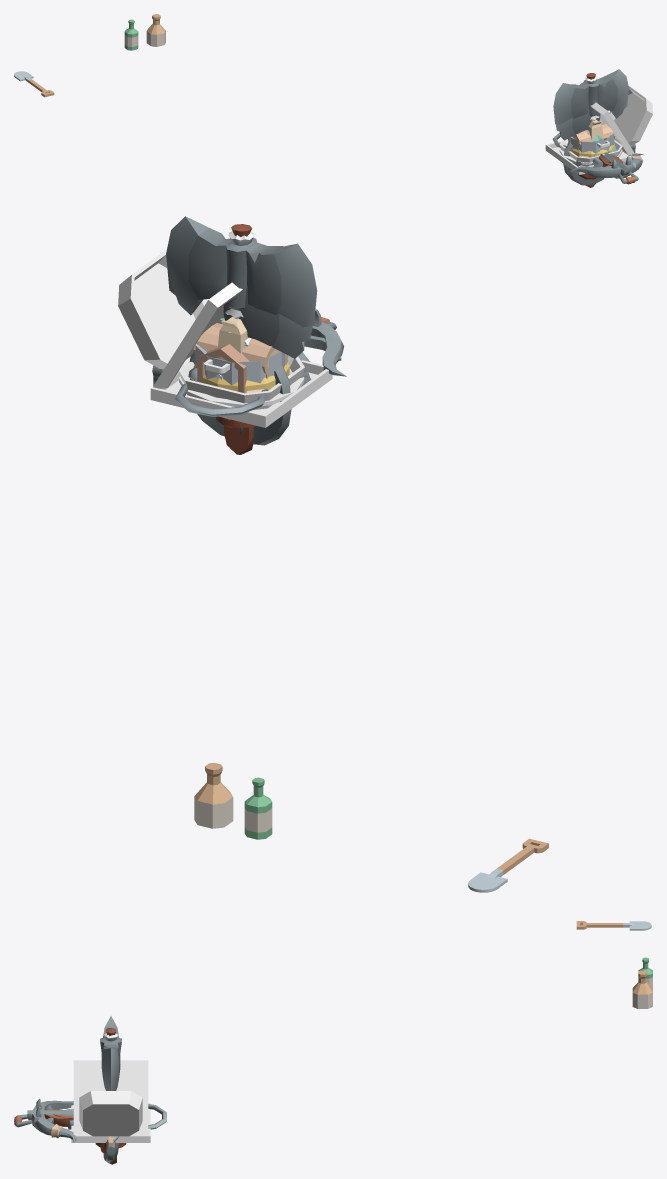
The model's file is items.glb.
3 views of the same model, one above another, from view 1: azimuth 30°, elevation 25°; view 2: azimuth 150°, elevation 25°; view 3: azimuth 270°, elevation 25° (orthographic). The views are drawn at different scales.
Parts seen in each view (by area): view 1: axe_2handed, lid (×2), crossbow_2handed, axe_1handed, bottleLarge, pot, pizzaBox, shield_round, styrofoamDinner, bottle, loaf, shovel; view 2: axe_2handed, lid (×2), pizzaBox, axe_1handed, bottleLarge, styrofoamDinner, pot, bottle, shield_round, shovel, keyring, loaf (+2 smaller); view 3: lid (×2), crossbow_2handed, axe_2handed, bottleLarge, pizzaBox, shovel.
Part boxes in pixels (x1,y1,x2,y2): axe_2handed: (553,69,628,184); lid (×2): (590,86,652,155); crossbow_2handed: (570,153,643,184); axe_1handed: (555,104,600,140); bottleLarge: (146,14,165,46); pot: (568,133,614,153); pizzaBox: (545,141,631,174); shield_round: (563,139,614,185); styrofoamDinner: (559,139,622,166); bottle: (124,19,138,50); loaf: (568,122,615,150); shovel: (14,71,54,97); axe_2handed: (166,216,317,327); lid (×2): (118,249,242,388); pizzaBox: (150,360,332,427); axe_1handed: (223,286,312,358); bottleLarge: (194,763,233,828); styrofoamDinner: (179,355,304,409); pot: (195,344,287,385); bottle: (244,777,272,839); shield_round: (189,352,291,445); shovel: (468,838,548,892); keyring: (175,352,311,416); loaf: (193,323,288,378); lid (×2): (73,1060,148,1136); crossbow_2handed: (14,1098,76,1142); axe_2handed: (100,1016,121,1090); bottleLarge: (632,970,652,1008); pizzaBox: (71,1103,150,1142); shovel: (576,921,651,930).
Size of the model in its own units: 6.65 by 1.8 by 7.66.
24 materials, 4 textured.
